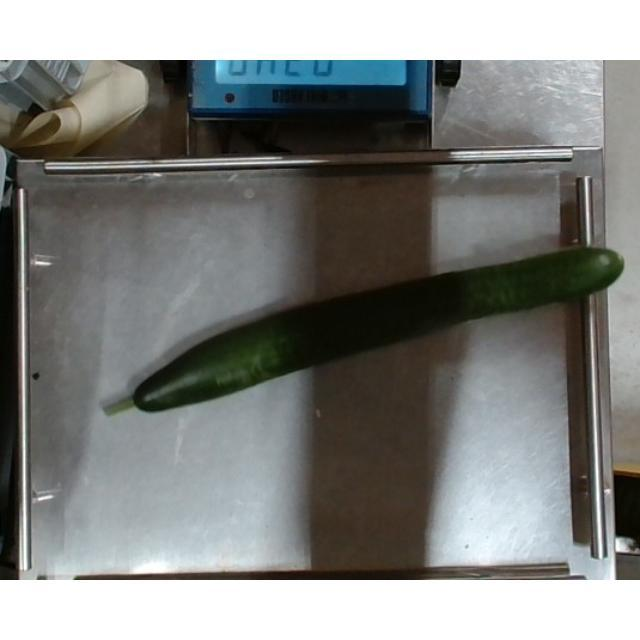cucumber: (104, 244, 626, 418)
